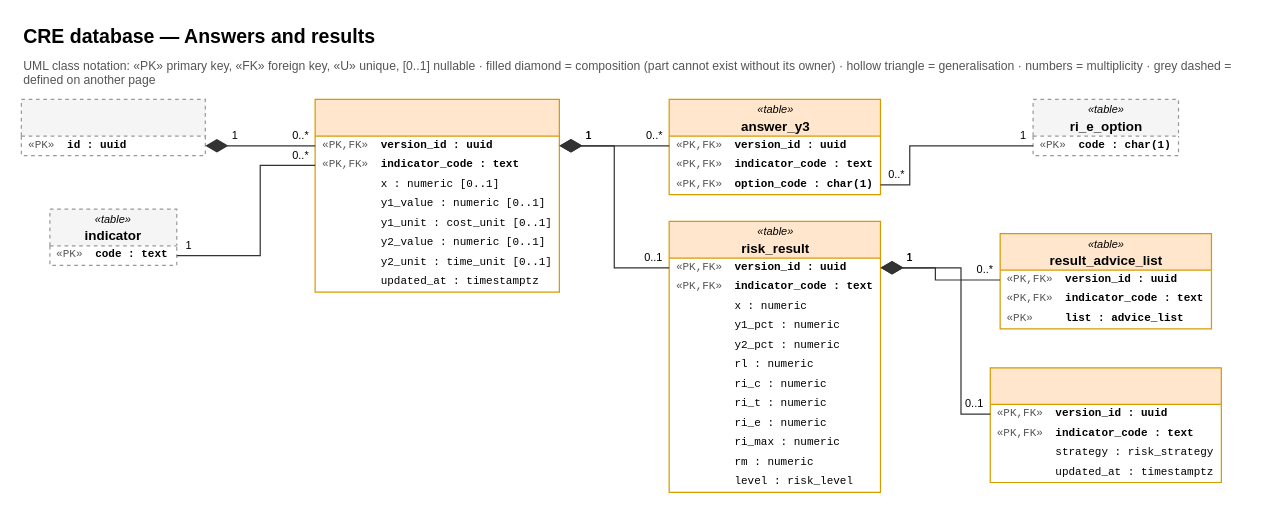
Image size: 1263x514. Some labels were removed from this diagram. Here are the shapes that lost their labels. From the top down, the box of each, then its label:
(20, 98, 205, 156): «table» assessment_version
(314, 98, 559, 292): «table» answer
(989, 367, 1221, 483): «table» strategy_choice
